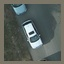car: (19, 18, 44, 50)
